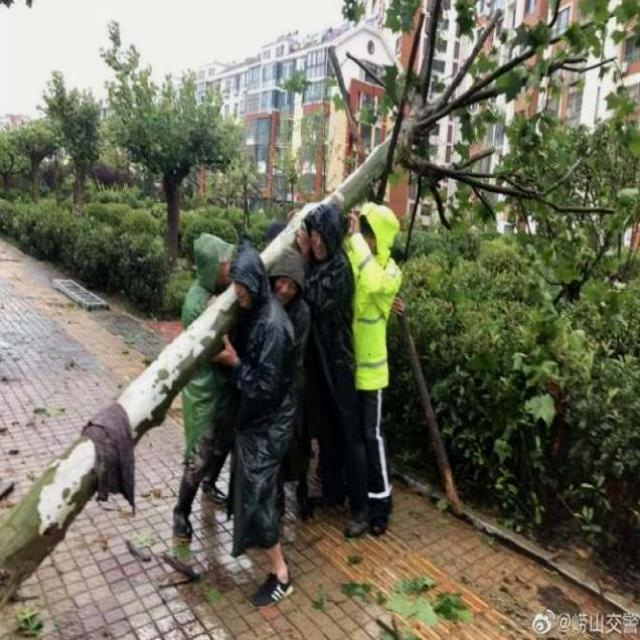fallen_object: (0, 0, 618, 607)
